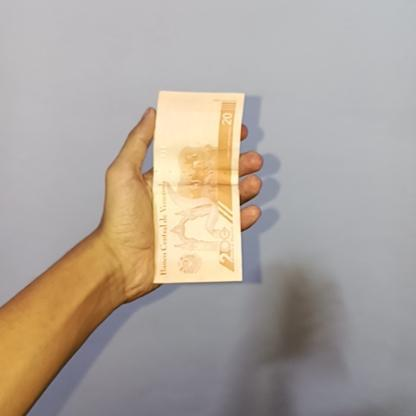twenty-back-vef: (152, 89, 246, 285)
